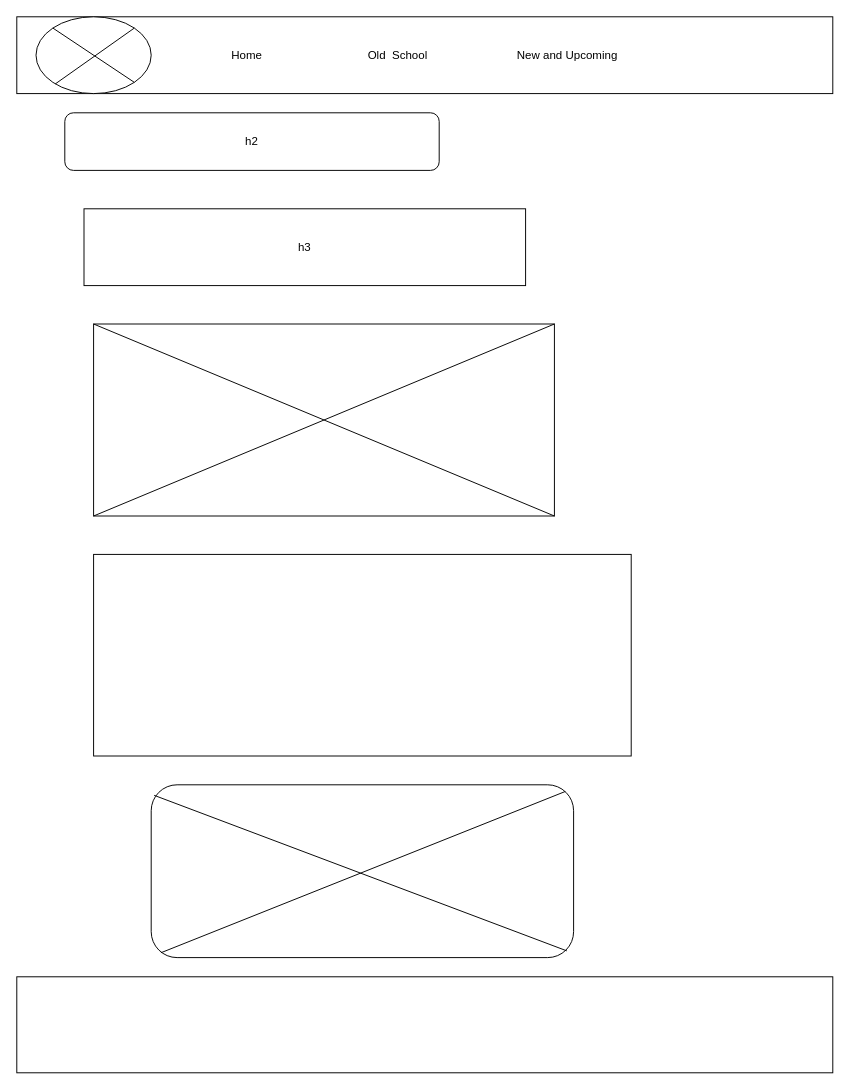
The diagram is 850 pixels wide and 1090 high, and some of its shapes have lost their labels. Each missing label, with the centre of its shape:
Game Reviver @ Deon JOhannes Home Old school New And Upcoming Contact Us: the point at 424,1024
Paragraph: the point at 362,654
